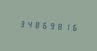eight: (33, 18, 40, 30), (57, 20, 64, 32)
four: (25, 18, 32, 29)
nine: (49, 20, 56, 31)
one: (65, 21, 72, 32)
six: (73, 21, 80, 33), (41, 19, 48, 30)
three: (17, 17, 24, 29)
